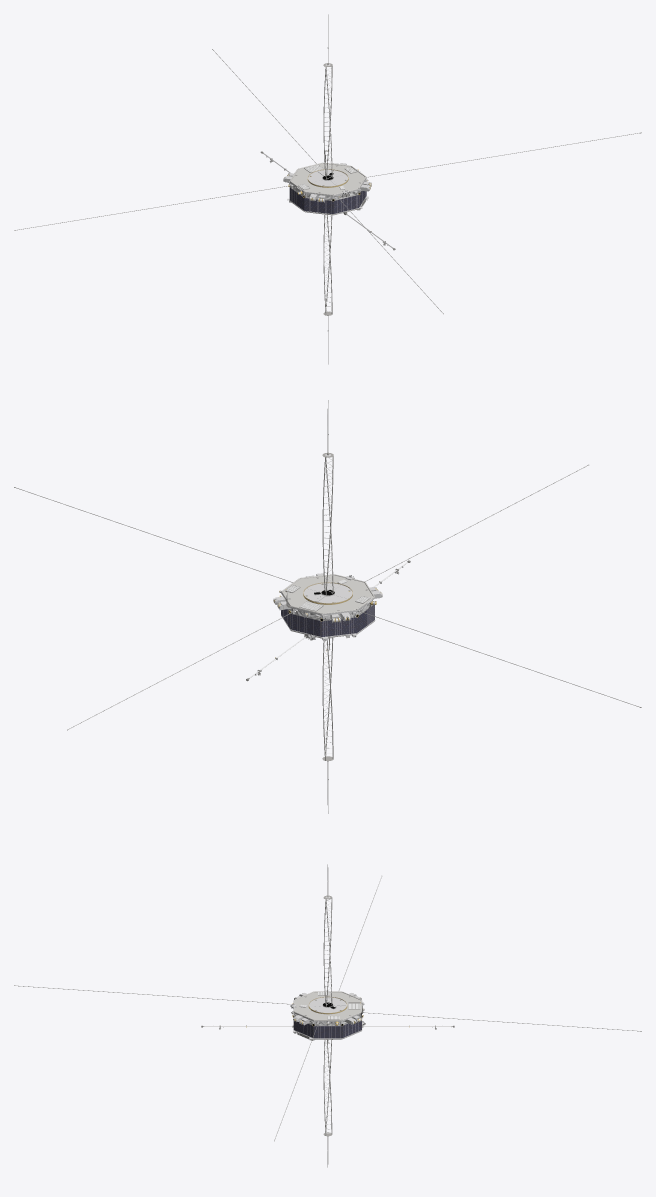
Rendered from Magnetospheric Multiscale (MMS) (B).glb.
3 renders of one model, top to bottom at view 1: azimuth 30°, elevation 25°; view 2: azimuth 150°, elevation 25°; view 3: azimuth 270°, elevation 25°, orthographic. The views are drawn at different scales.
Parts seen in each view (by area): view 1: MainBus; view 2: MainBus; view 3: MainBus.
Part boxes in pixels (box(x1,y1,x2,y2)): MainBus: box(14, 14, 641, 364); MainBus: box(14, 400, 641, 813); MainBus: box(14, 864, 641, 1167).
Bounding box in the file's own units: 14.51 × 8.51 × 14.51.
